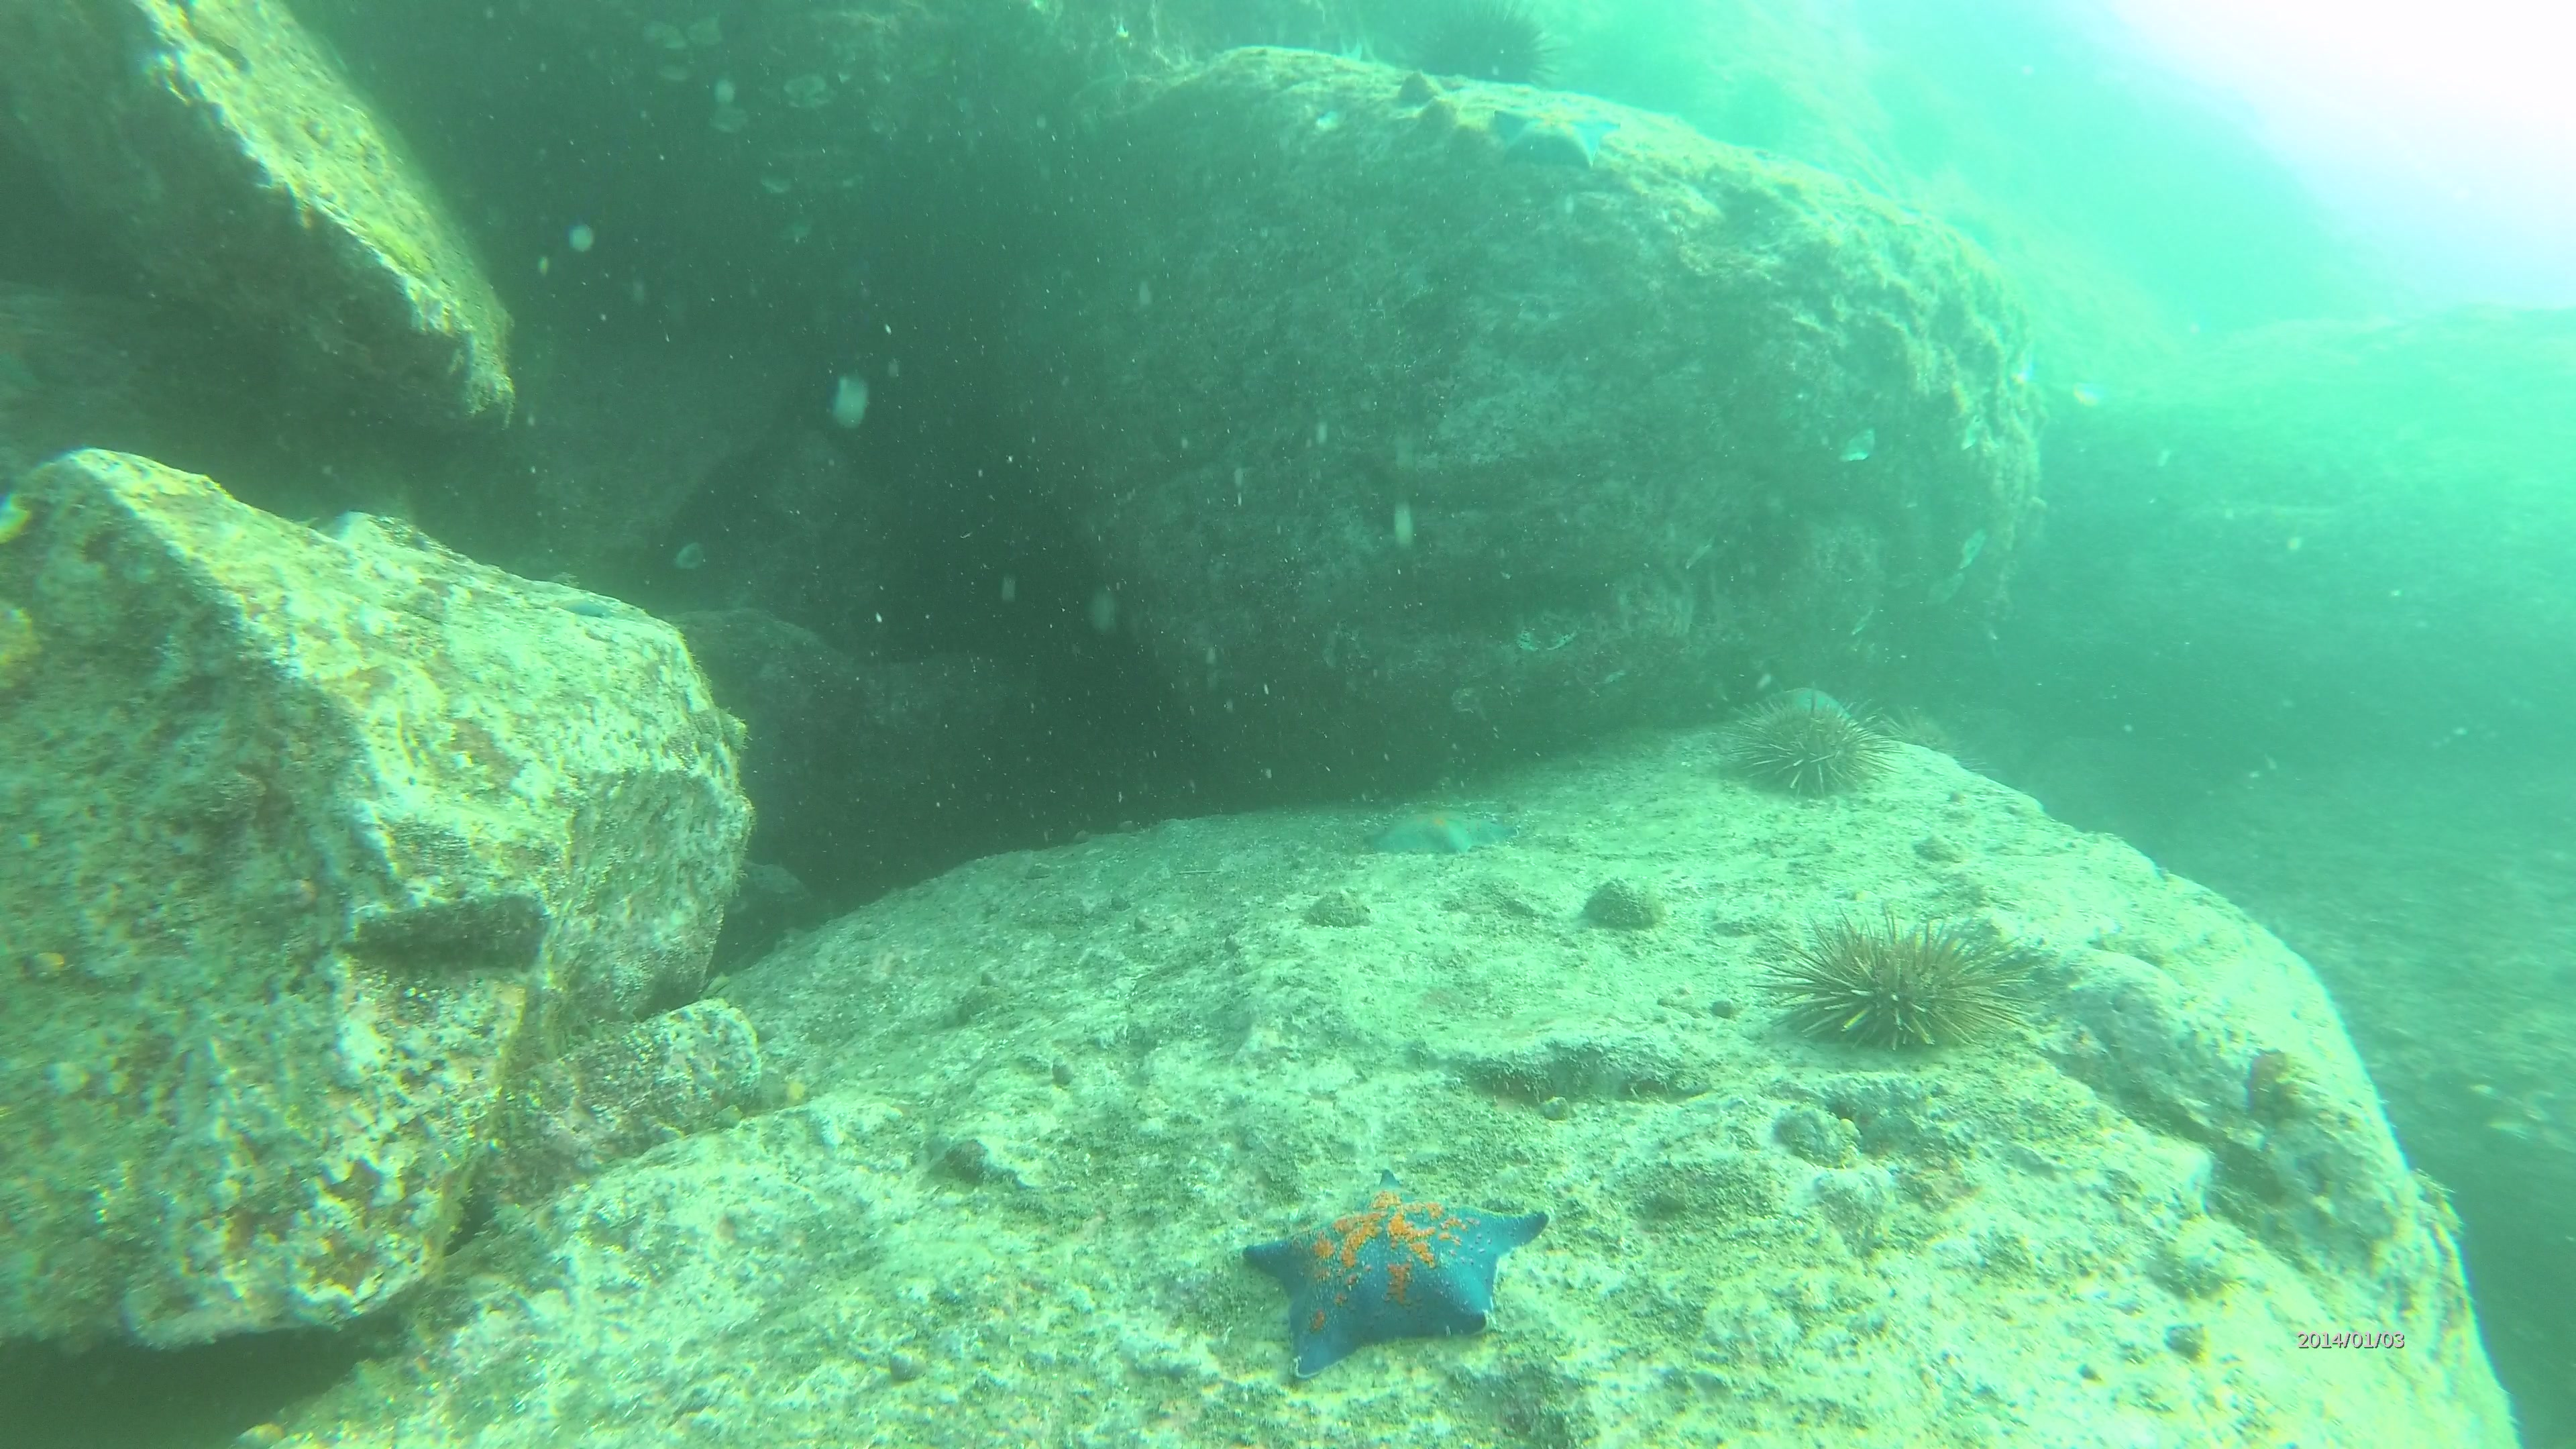echinus: (1764, 901, 2059, 1065), (1727, 681, 1916, 796), (1414, 4, 1553, 87)
starfish: (1244, 1177, 1552, 1378), (1493, 92, 1624, 182)
